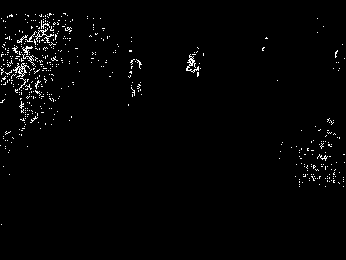person: (125, 56, 144, 102)
